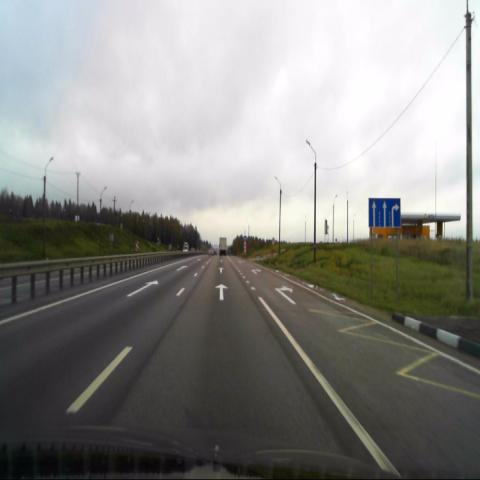5_15_1: (368, 198, 401, 227)
